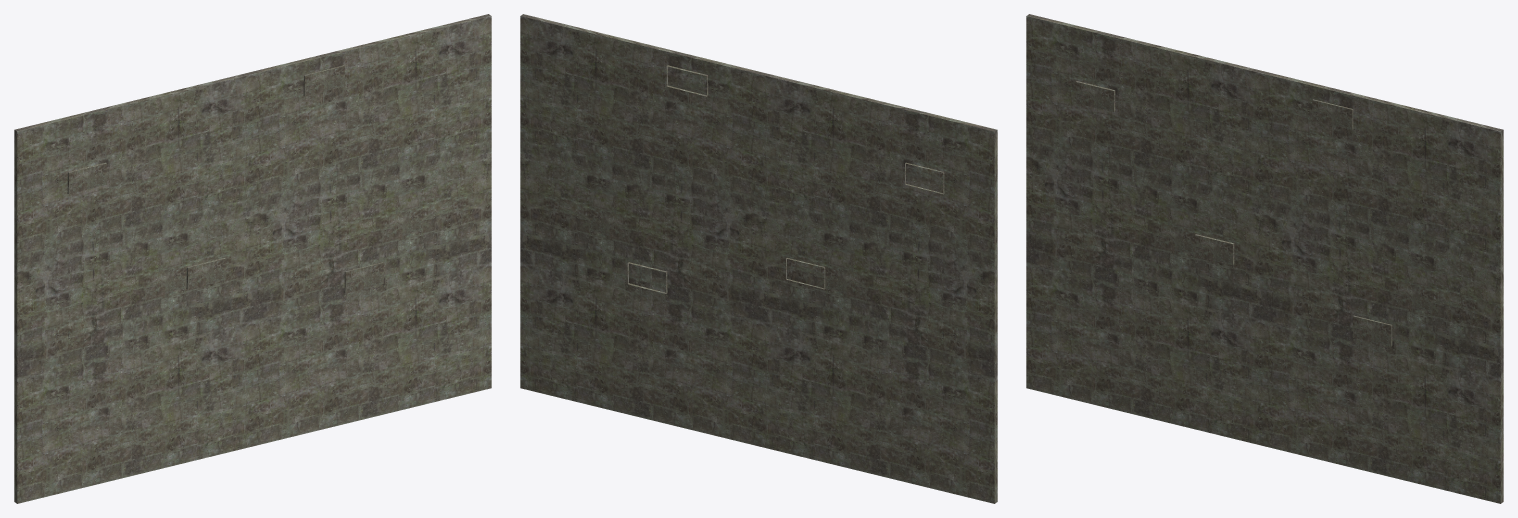
The model's file is wall2.fbx.
3 renders of one model, left to right at view 1: azimuth 30°, elevation 25°; view 2: azimuth 150°, elevation 25°; view 3: azimuth 330°, elevation 25°, orthographic.
Visible parts, largest first — view 1: Mesh Object; view 2: Mesh Object; view 3: Mesh Object.
Part boxes in pixels (x1,y1,x2,y2): Mesh Object: [14, 14, 491, 503]; Mesh Object: [520, 14, 997, 503]; Mesh Object: [1026, 14, 1503, 503].
Size of the model in its own units: 4 by 3 by 0.077.
